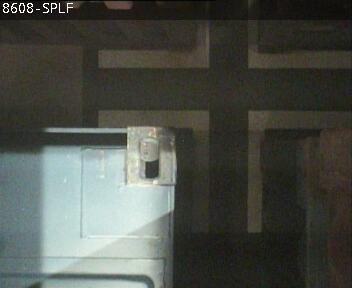groundmarker_1: (98, 109, 351, 233), (99, 1, 352, 68)
